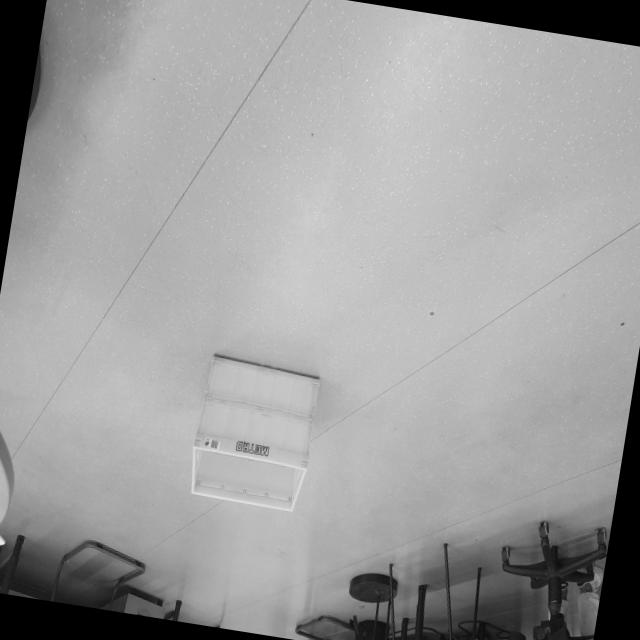box: (175, 330, 332, 528)
